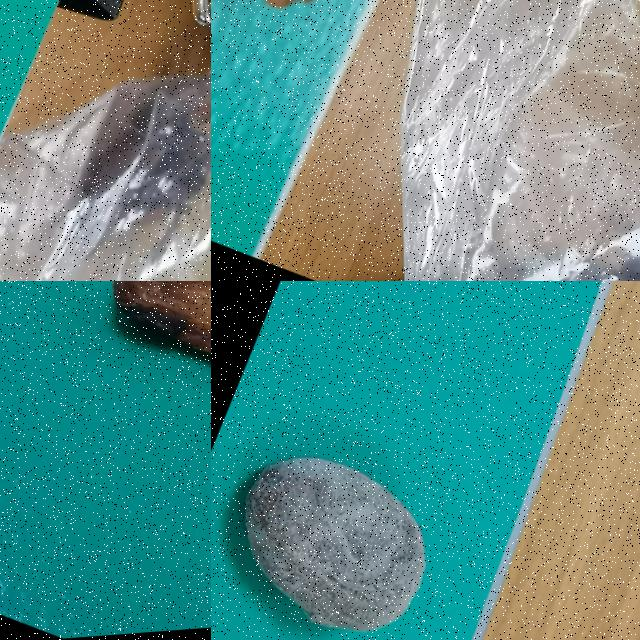Fine_cocoabeans: (211, 301, 546, 639)
Flat_cocoabeans: (19, 281, 210, 547), (211, 0, 475, 121), (0, 0, 107, 280)
